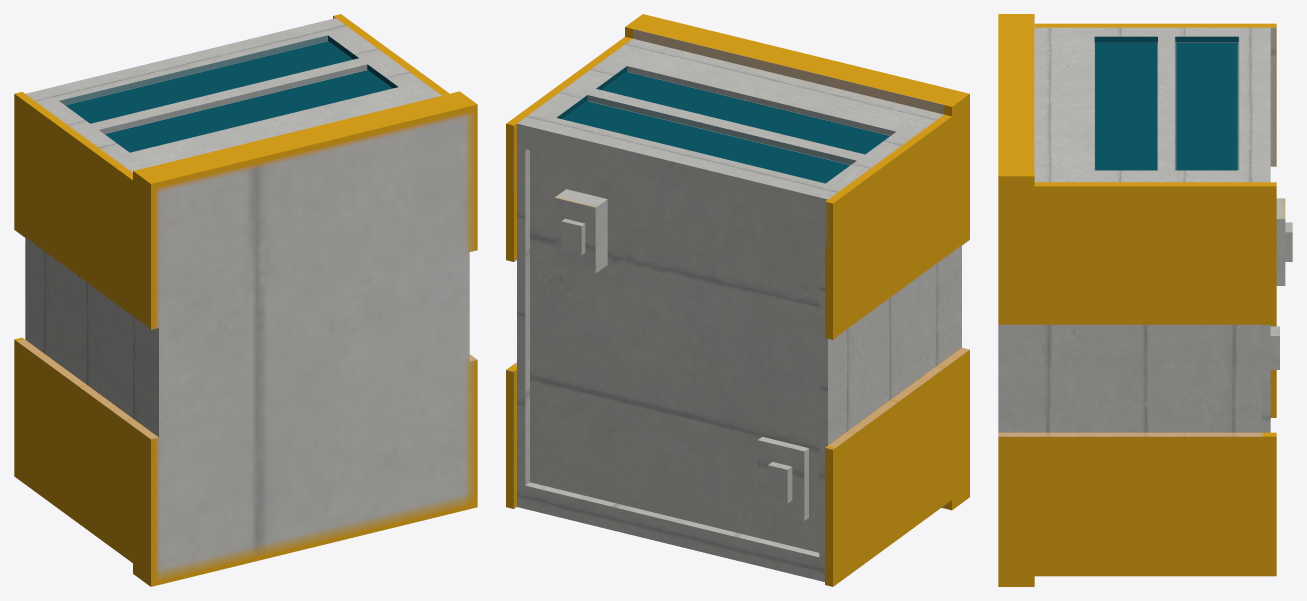
Rendered from buildings-industrial-01.obj.
3 renders of one model, left to right at view 1: azimuth 30°, elevation 25°; view 2: azimuth 150°, elevation 25°; view 3: azimuth 270°, elevation 25°, orthographic.
Visible parts, largest first — view 1: buildings-industrial-01_Cube.092; view 2: buildings-industrial-01_Cube.092; view 3: buildings-industrial-01_Cube.092.
Boxes of the visible parts, x1,y1,x2,y2 form: buildings-industrial-01_Cube.092: (14,14,477,586); buildings-industrial-01_Cube.092: (506,14,969,586); buildings-industrial-01_Cube.092: (998,14,1292,586).
Bounding box in the file's own units: 6.62 × 7.81 × 5.08.
